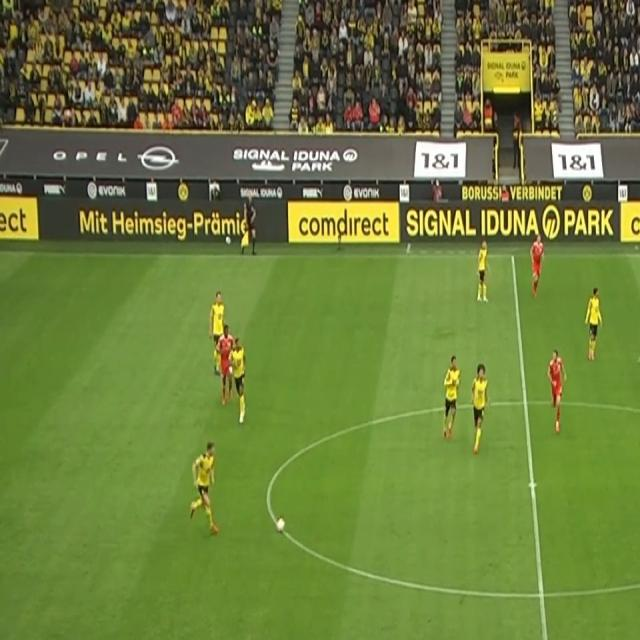ball: (275, 515, 286, 534)
